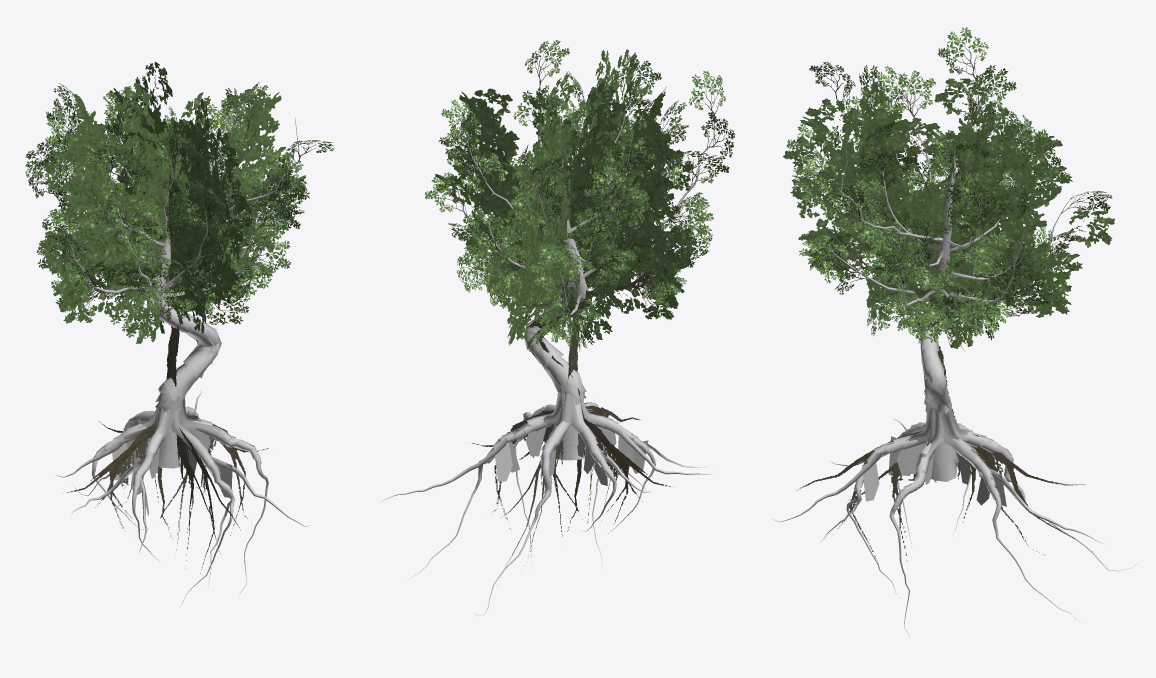
File: Mangrove3.fbx
3 views of the same model, side by side, from view 1: azimuth 30°, elevation 25°; view 2: azimuth 150°, elevation 25°; view 3: azimuth 270°, elevation 25° (orthographic). The views are drawn at different scales.
Parts seen in each view (by area): view 1: LOD0, Billboard; view 2: LOD0, Billboard; view 3: LOD0, Billboard.
Boxes of the visible parts, bbox=[...] form: LOD0: bbox=[25, 82, 333, 603]; Billboard: bbox=[39, 61, 305, 573]; LOD0: bbox=[381, 40, 735, 615]; Billboard: bbox=[435, 49, 697, 577]; LOD0: bbox=[773, 27, 1135, 637]; Billboard: bbox=[783, 78, 1114, 569].
Size of what is drawn, in the model's own units: 615 by 1116 by 695.
